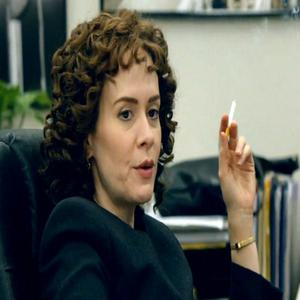cigarette: (224, 99, 235, 142)
